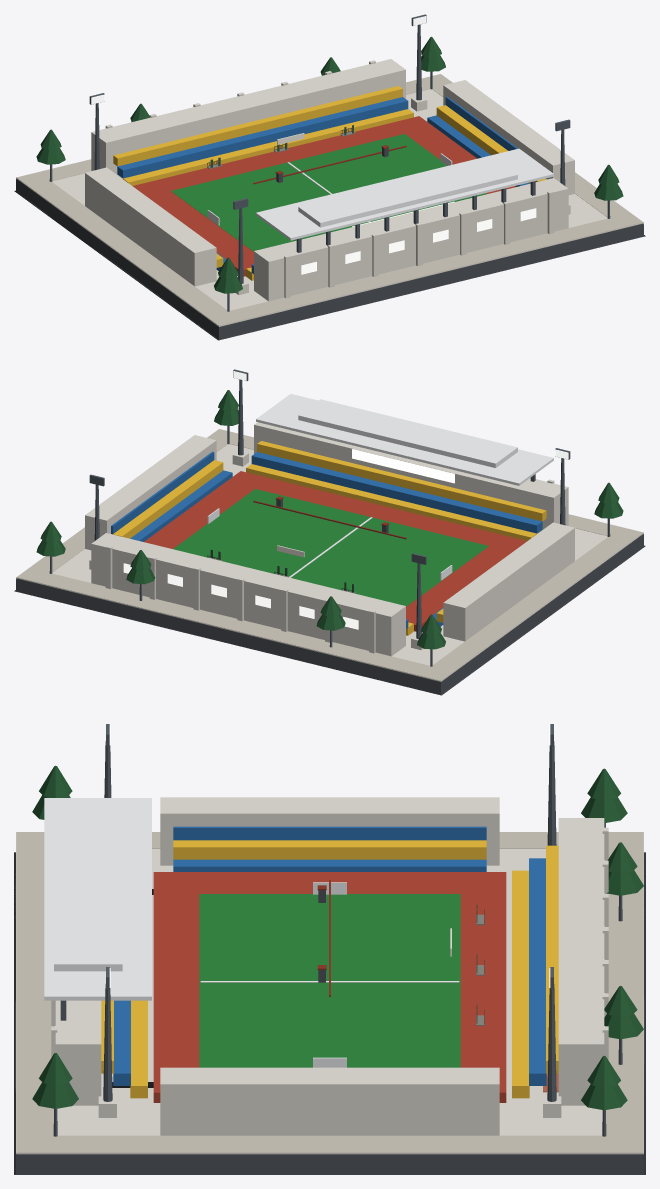
The model's file is lm_47_san_van_dong_da_lat.glb.
3 renders of one model, top to bottom at view 1: azimuth 30°, elevation 25°; view 2: azimuth 150°, elevation 25°; view 3: azimuth 270°, elevation 25°, orthographic. The views are drawn at different scales.
Visible parts, largest first — view 1: Stadium_Concrete_Bowl_And_Ramps, Stadium_Outer_Esplanade, Stadium_Emerald_Football_Pitch, GrandstandA_Cantilever_Roof_Canopy, Foundation_Skirt, Grandstand_Yellow_Seating_Tiers, Stadium_Terracotta_Running_Track, Grandstand_Blue_Seating_Tiers, Foundation_Plinth_Trim, Stadium_Hill_Pine_Forest, Floodlight_Tower_Masts, Stadium_Floodlights_And_VIP_Windows; view 2: Stadium_Concrete_Bowl_And_Ramps, Stadium_Emerald_Football_Pitch, Stadium_Outer_Esplanade, GrandstandA_Cantilever_Roof_Canopy, Foundation_Skirt, Stadium_Terracotta_Running_Track, Grandstand_Yellow_Seating_Tiers, Grandstand_Blue_Seating_Tiers, Foundation_Plinth_Trim, Stadium_Hill_Pine_Forest, Stadium_Floodlights_And_VIP_Windows, Floodlight_Tower_Masts; view 3: Stadium_Concrete_Bowl_And_Ramps, Stadium_Emerald_Football_Pitch, Stadium_Outer_Esplanade, Stadium_Terracotta_Running_Track, GrandstandA_Cantilever_Roof_Canopy, Grandstand_Yellow_Seating_Tiers, Foundation_Skirt, Grandstand_Blue_Seating_Tiers, Foundation_Plinth_Trim, Stadium_Hill_Pine_Forest, Floodlight_Tower_Masts.
Part boxes in pixels (left/top/right/bottom): Stadium_Concrete_Bowl_And_Ramps: left=85, top=59, right=574, bottom=301; Stadium_Outer_Esplanade: left=16, top=74, right=643, bottom=325; Stadium_Emerald_Football_Pitch: left=171, top=134, right=486, bottom=251; GrandstandA_Cantilever_Roof_Canopy: left=207, top=148, right=553, bottom=240; Foundation_Skirt: left=14, top=179, right=645, bottom=340; Grandstand_Yellow_Seating_Tiers: left=113, top=86, right=546, bottom=280; Stadium_Terracotta_Running_Track: left=132, top=116, right=515, bottom=276; Grandstand_Blue_Seating_Tiers: left=117, top=96, right=548, bottom=273; Foundation_Plinth_Trim: left=16, top=89, right=643, bottom=326; Stadium_Hill_Pine_Forest: left=36, top=36, right=623, bottom=293; Floodlight_Tower_Masts: left=49, top=14, right=610, bottom=311; Stadium_Floodlights_And_VIP_Windows: left=91, top=16, right=536, bottom=274; Stadium_Concrete_Bowl_And_Ramps: left=85, top=422, right=574, bottom=656; Stadium_Emerald_Football_Pitch: left=173, top=489, right=488, bottom=606; Stadium_Outer_Esplanade: left=16, top=429, right=643, bottom=680; GrandstandA_Cantilever_Roof_Canopy: left=207, top=394, right=553, bottom=580; Foundation_Skirt: left=14, top=534, right=645, bottom=695; Stadium_Terracotta_Running_Track: left=144, top=471, right=527, bottom=631; Grandstand_Yellow_Seating_Tiers: left=113, top=441, right=546, bottom=635; Grandstand_Blue_Seating_Tiers: left=111, top=451, right=542, bottom=628; Foundation_Plinth_Trim: left=16, top=444, right=643, bottom=681; Stadium_Hill_Pine_Forest: left=36, top=390, right=623, bottom=649; Stadium_Floodlights_And_VIP_Windows: left=123, top=371, right=568, bottom=629; Floodlight_Tower_Masts: left=49, top=369, right=610, bottom=666; Stadium_Concrete_Bowl_And_Ramps: left=51, top=797, right=608, bottom=1135; Stadium_Emerald_Football_Pitch: left=199, top=894, right=460, bottom=1067; Stadium_Outer_Esplanade: left=16, top=832, right=643, bottom=1152; Stadium_Terracotta_Running_Track: left=153, top=872, right=506, bottom=1102; GrandstandA_Cantilever_Roof_Canopy: left=44, top=798, right=459, bottom=1067; Grandstand_Yellow_Seating_Tiers: left=101, top=840, right=558, bottom=1098; Foundation_Skirt: left=14, top=852, right=645, bottom=1174; Grandstand_Blue_Seating_Tiers: left=113, top=826, right=546, bottom=1085; Foundation_Plinth_Trim: left=16, top=832, right=643, bottom=1154; Stadium_Hill_Pine_Forest: left=32, top=765, right=643, bottom=1110; Floodlight_Tower_Masts: left=53, top=724, right=622, bottom=1136.
Size of the model in its own units: 117 by 27.5 by 96.77.
